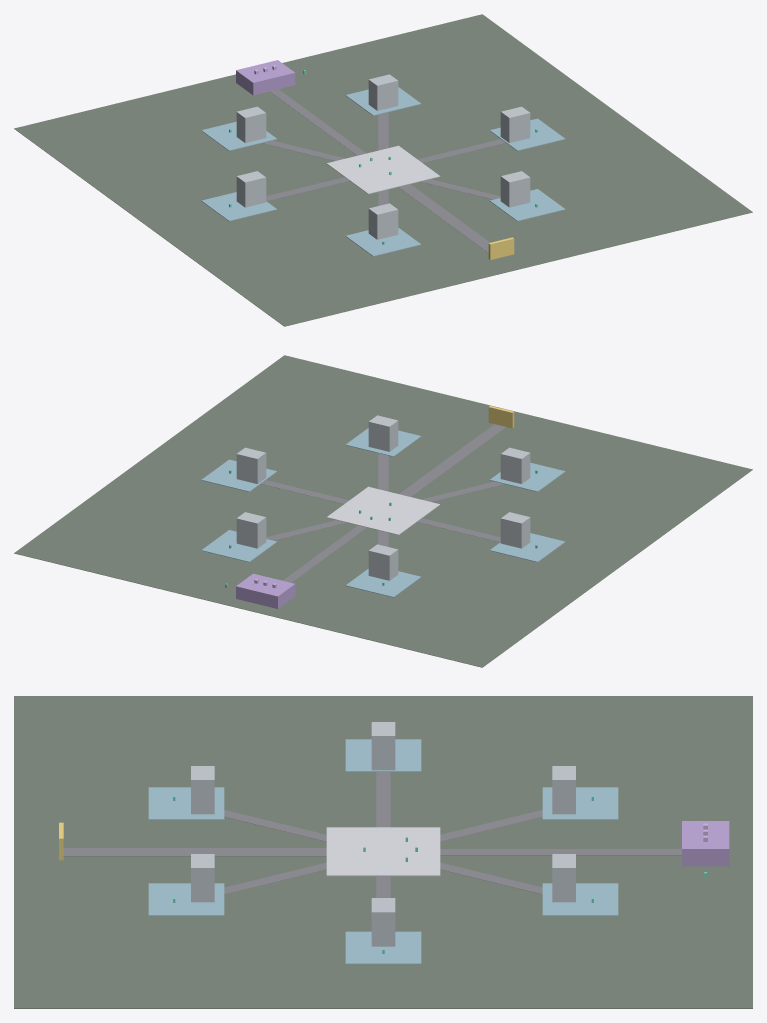
The model's file is agents-deploy-infrastructure.glb.
3 views of the same model, one above another, from view 1: azimuth 30°, elevation 25°; view 2: azimuth 150°, elevation 25°; view 3: azimuth 270°, elevation 25° (orthographic). The views are drawn at different scales.
Parts seen in each view (by area): view 1: ground:agents-deploy-infrastructure, plaza:agents-deploy-infrastructure/floor, council:agents-deploy-infrastructure/chamber, one:agents-deploy-infrastructure/idea-bench/pad, gents-deploy-infrastructure/operations-deck/pad, road:agents-deploy-infrastructure/gate, nts-deploy-infrastructure/provisioning-yard/pad, ts-deploy-infrastructure/provisioning-yard/hall, deploy-infrastructure/domain-registry-desk/hall, ne:agents-deploy-infrastructure/idea-bench/hall, gents-deploy-infrastructure/deployment-bay/hall, ents-deploy-infrastructure/operations-deck/hall (+5 smaller); view 2: ground:agents-deploy-infrastructure, plaza:agents-deploy-infrastructure/floor, council:agents-deploy-infrastructure/chamber, road:agents-deploy-infrastructure/gate, agents-deploy-infrastructure/deployment-bay/pad, -deploy-infrastructure/domain-registry-desk/pad, nts-deploy-infrastructure/provisioning-yard/pad, ts-deploy-infrastructure/provisioning-yard/hall, ents-deploy-infrastructure/operations-deck/hall, ne:agents-deploy-infrastructure/idea-bench/hall, gents-deploy-infrastructure/deployment-bay/hall, deploy-infrastructure/domain-registry-desk/hall (+5 smaller); view 3: ground:agents-deploy-infrastructure, plaza:agents-deploy-infrastructure/floor, road:agents-deploy-infrastructure/gate, y-infrastructure/service-configuration-room/pad, -deploy-infrastructure/domain-registry-desk/pad, gents-deploy-infrastructure/operations-deck/pad, council:agents-deploy-infrastructure/chamber, one:agents-deploy-infrastructure/idea-bench/pad, agents-deploy-infrastructure/deployment-bay/pad, nts-deploy-infrastructure/provisioning-yard/pad, road:agents-deploy-infrastructure/council, -infrastructure/service-configuration-room/hall (+10 smaller).
Boxes of the visible parts, x1,y1,x2,y2 form: ground:agents-deploy-infrastructure: (14, 14, 752, 326); plaza:agents-deploy-infrastructure/floor: (326, 145, 440, 194); council:agents-deploy-infrastructure/chamber: (236, 60, 295, 95); one:agents-deploy-infrastructure/idea-bench/pad: (345, 228, 421, 256); gents-deploy-infrastructure/operations-deck/pad: (490, 189, 565, 221); road:agents-deploy-infrastructure/gate: (398, 184, 489, 252); nts-deploy-infrastructure/provisioning-yard/pad: (201, 192, 277, 221); ts-deploy-infrastructure/provisioning-yard/hall: (236, 171, 266, 207); deploy-infrastructure/domain-registry-desk/hall: (368, 74, 398, 110); ne:agents-deploy-infrastructure/idea-bench/hall: (368, 203, 398, 239); gents-deploy-infrastructure/deployment-bay/hall: (236, 106, 266, 142); ents-deploy-infrastructure/operations-deck/hall: (500, 171, 530, 207); ground:agents-deploy-infrastructure: (14, 355, 752, 667); plaza:agents-deploy-infrastructure/floor: (326, 486, 440, 535); council:agents-deploy-infrastructure/chamber: (236, 573, 295, 608); road:agents-deploy-infrastructure/gate: (399, 424, 506, 496); agents-deploy-infrastructure/deployment-bay/pad: (345, 569, 421, 597); -deploy-infrastructure/domain-registry-desk/pad: (201, 530, 276, 562); nts-deploy-infrastructure/provisioning-yard/pad: (489, 533, 565, 562); ts-deploy-infrastructure/provisioning-yard/hall: (500, 512, 530, 548); ents-deploy-infrastructure/operations-deck/hall: (368, 415, 398, 451); ne:agents-deploy-infrastructure/idea-bench/hall: (500, 447, 530, 483); gents-deploy-infrastructure/deployment-bay/hall: (368, 544, 398, 580); deploy-infrastructure/domain-registry-desk/hall: (236, 512, 266, 548); ground:agents-deploy-infrastructure: (14, 696, 752, 1008); plaza:agents-deploy-infrastructure/floor: (326, 827, 440, 876); road:agents-deploy-infrastructure/gate: (63, 848, 326, 856); y-infrastructure/service-configuration-room/pad: (345, 931, 421, 964); -deploy-infrastructure/domain-registry-desk/pad: (542, 883, 618, 916); gents-deploy-infrastructure/operations-deck/pad: (148, 883, 224, 916); council:agents-deploy-infrastructure/chamber: (682, 821, 729, 866); one:agents-deploy-infrastructure/idea-bench/pad: (148, 787, 224, 820); agents-deploy-infrastructure/deployment-bay/pad: (542, 787, 618, 820); nts-deploy-infrastructure/provisioning-yard/pad: (345, 739, 421, 772); road:agents-deploy-infrastructure/council: (440, 849, 681, 855); -infrastructure/service-configuration-room/hall: (371, 898, 395, 946).
Size of the model in its own units: 312 by 16.6 by 312.
